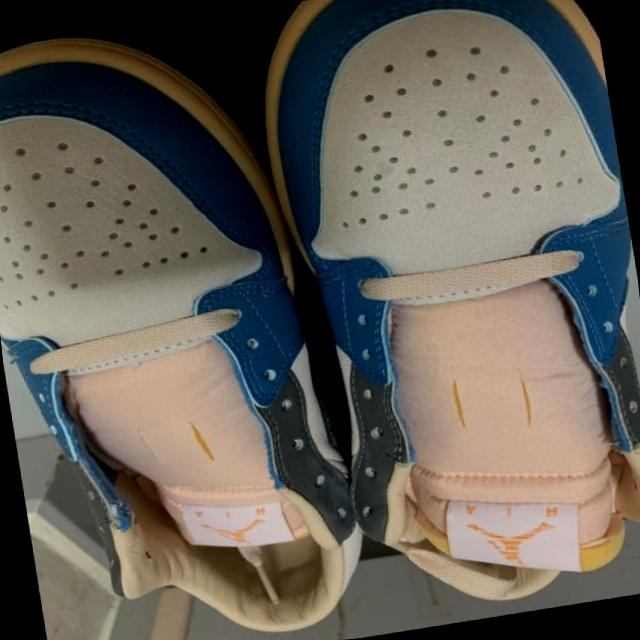nike_original_jordan: (242, 0, 640, 640), (0, 0, 379, 640)
